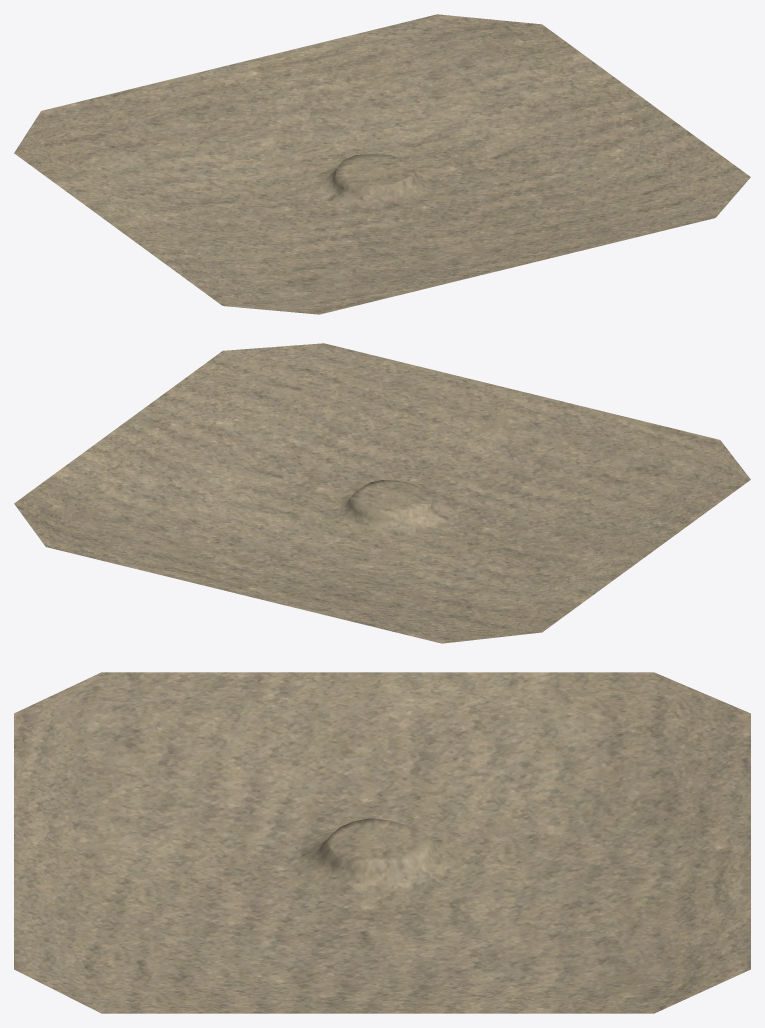
File: OceanFloorMeshShape.dae
3 renders of one model, top to bottom at view 1: azimuth 30°, elevation 25°; view 2: azimuth 150°, elevation 25°; view 3: azimuth 270°, elevation 25°, orthographic. The views are drawn at different scales.
Visible parts, largest first — view 1: OceanFloorMesh; view 2: OceanFloorMesh; view 3: OceanFloorMesh.
Boxes of the visible parts, x1,y1,x2,y2 form: OceanFloorMesh: (14,14,750,314); OceanFloorMesh: (14,343,750,643); OceanFloorMesh: (14,672,750,1013).
Bounding box in the file's own units: 2946 × 90.04 × 2688.
